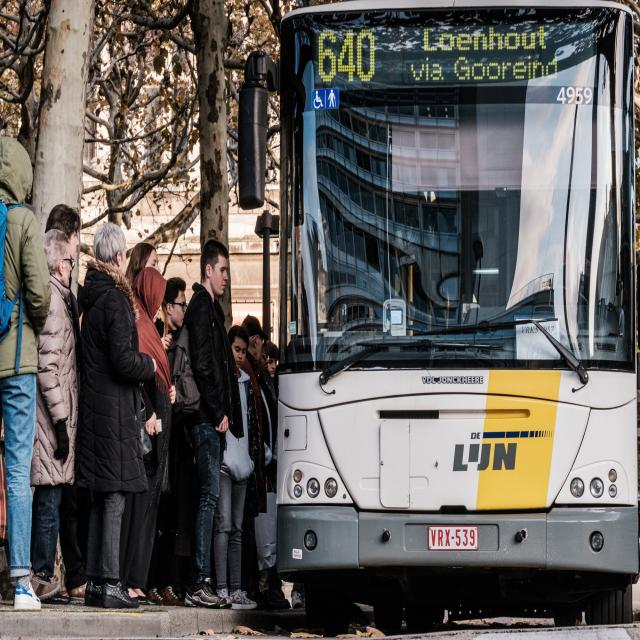bus-number: (314, 25, 378, 87)
